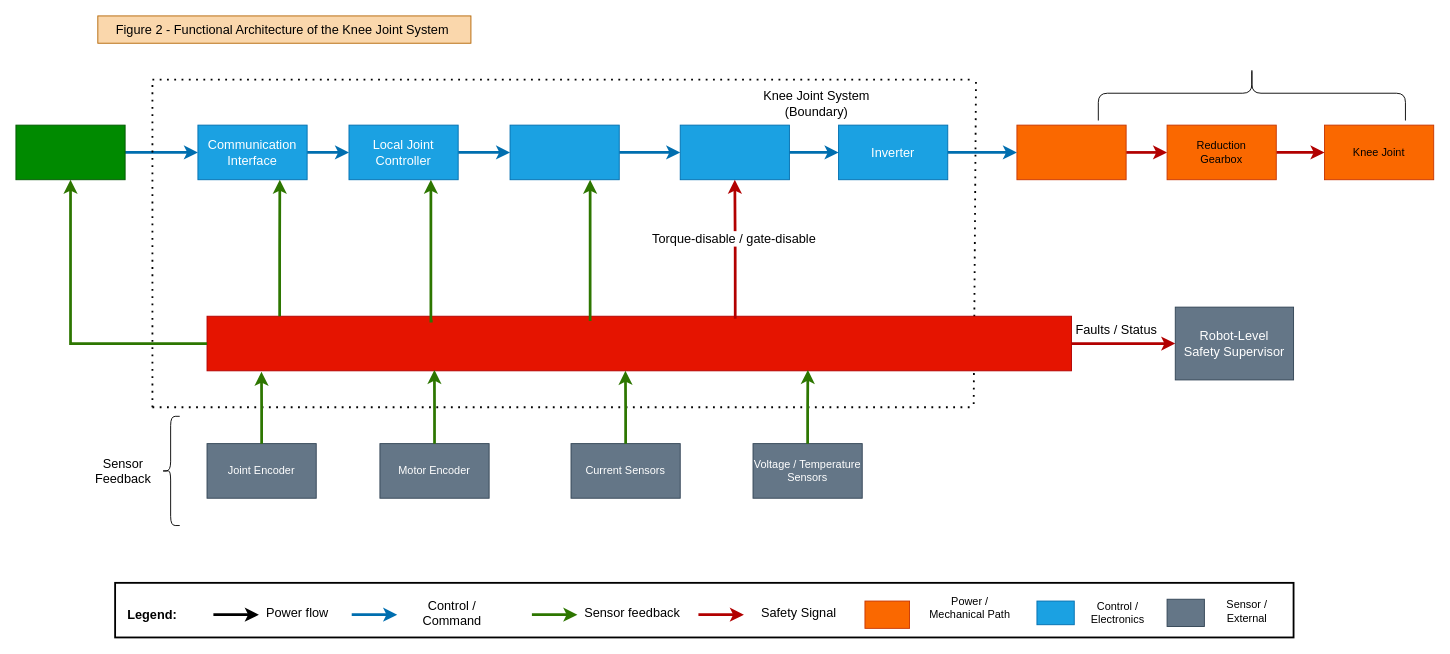
Image size: 1450x654. Some labels were removed from this diagram. The shapes that lost their labels are listed below. From the top down, each one's centre as x and y in pixels, then its label:
point 1251,93: Mechanical Output
point 70,152: Whole-Body Motion Controller
point 564,152: Motor Controller
point 734,152: Gate Driver
point 1071,152: PMSM Motor
point 639,343: Safety Monitor
